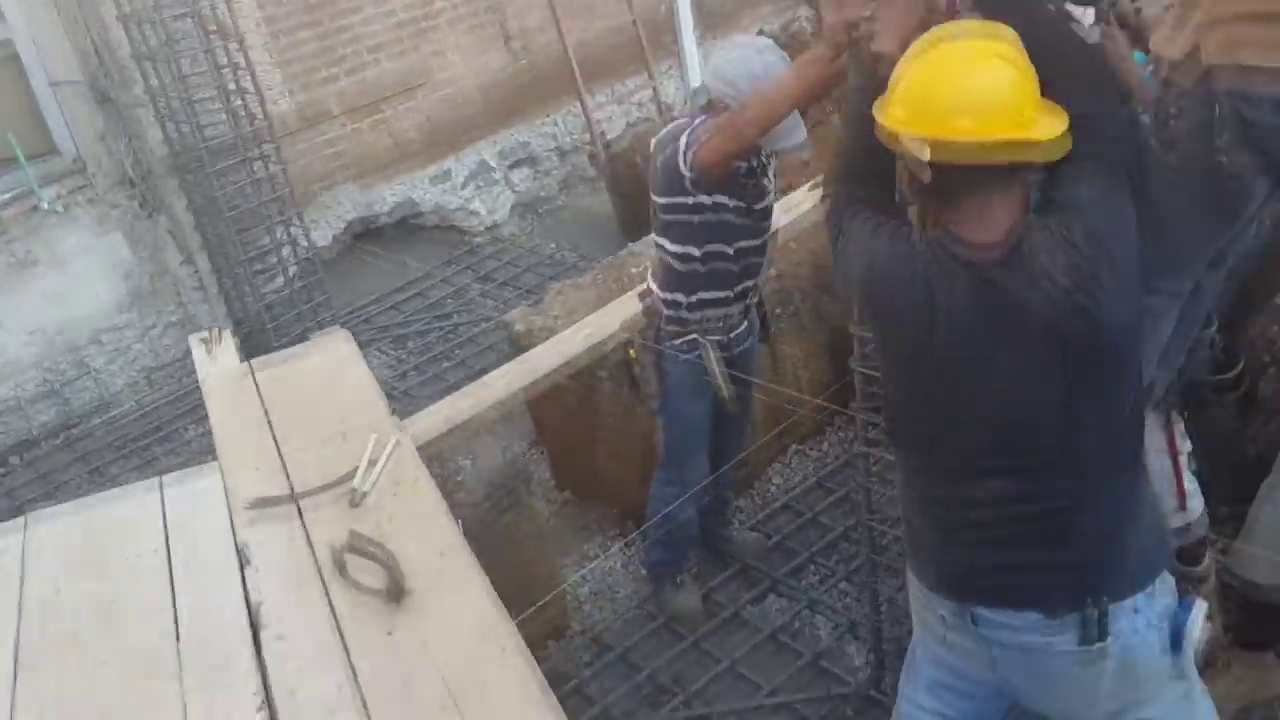helmet: (873, 14, 1086, 162)
helmet-off: (692, 15, 848, 165)
helmet-on: (870, 13, 1095, 263)
person: (831, 0, 1216, 720), (626, 3, 848, 578), (1083, 5, 1280, 578)
